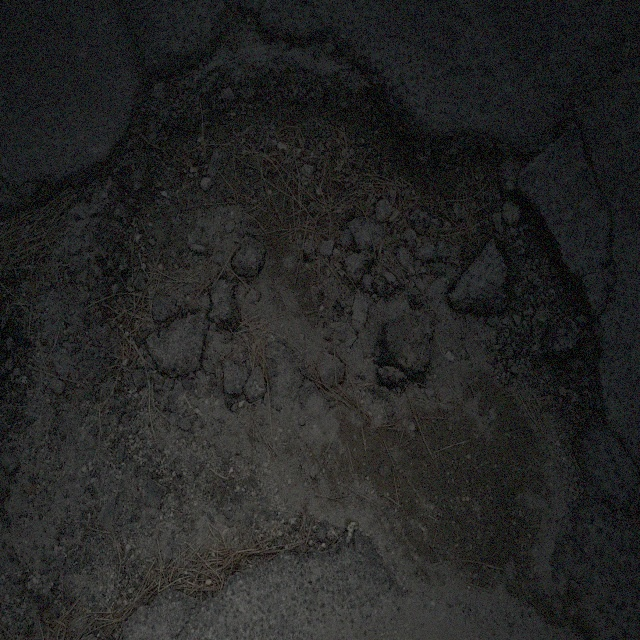pothole: (81, 27, 606, 583)
